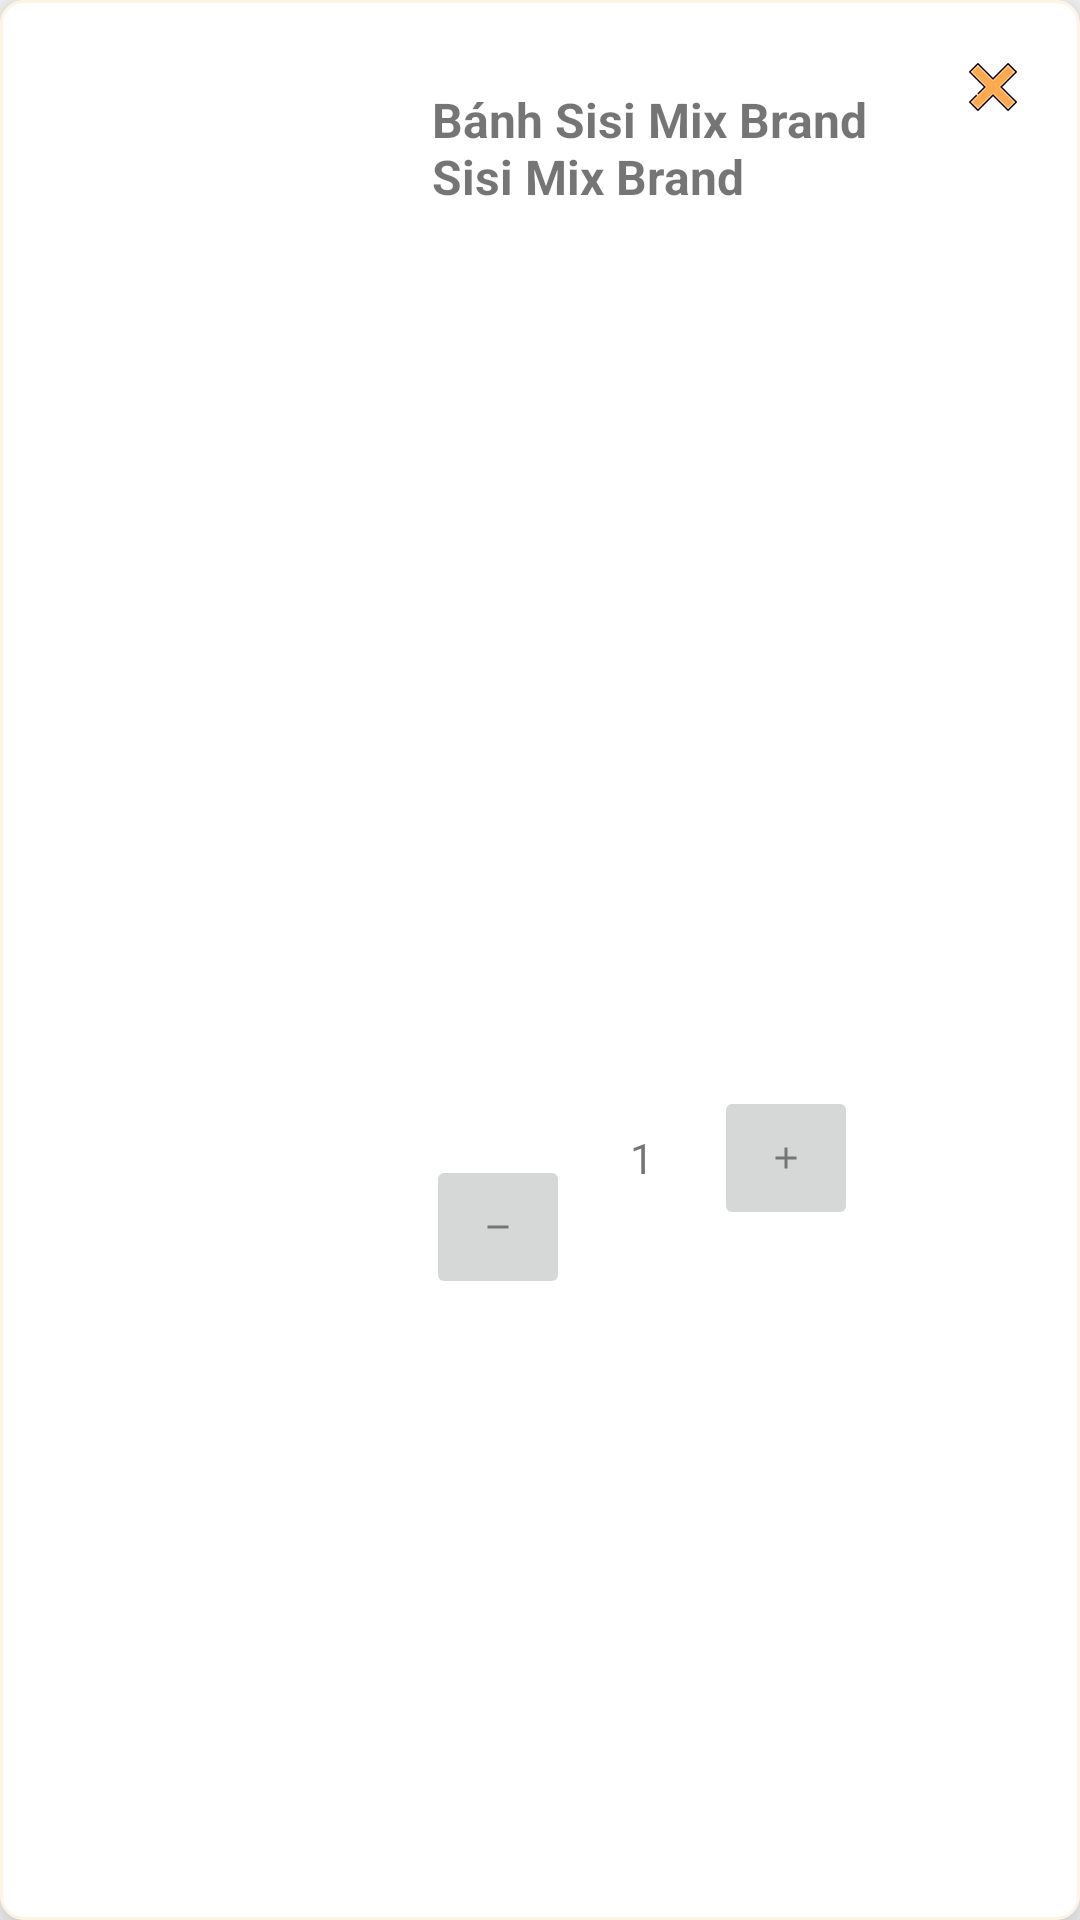

Icon bounding boxes for this 1080x1920 phone screenshot, format {"x1": x1, "y1": y1, "x2": x2, "y2": y2}:
add: {"x1": 726, "y1": 1104, "x2": 846, "y2": 1212}
cancel: {"x1": 969, "y1": 63, "x2": 1017, "y2": 111}
minus: {"x1": 438, "y1": 1173, "x2": 558, "y2": 1281}
